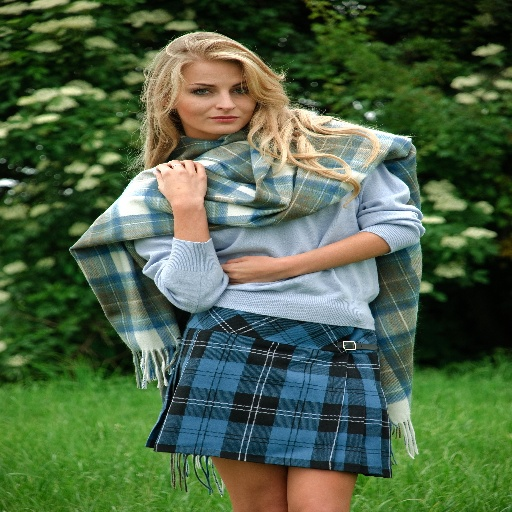hand: (152, 158, 209, 205), (219, 253, 296, 286)
